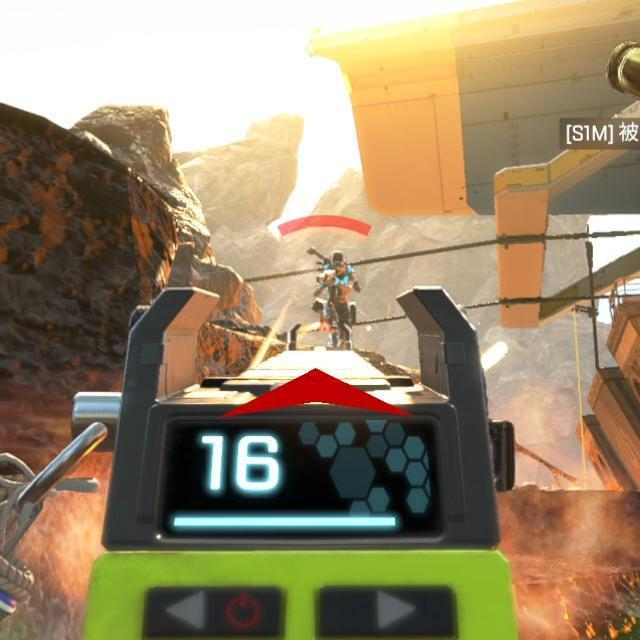avatar: (310, 249, 364, 349)
